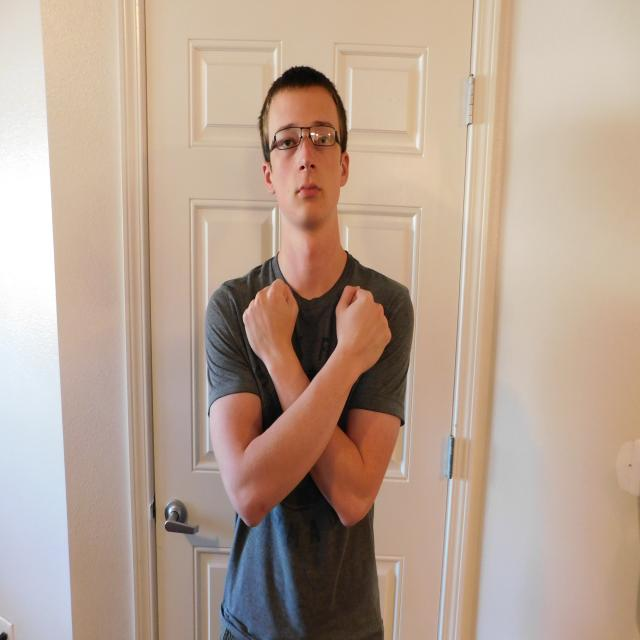love: (243, 279, 392, 372)
